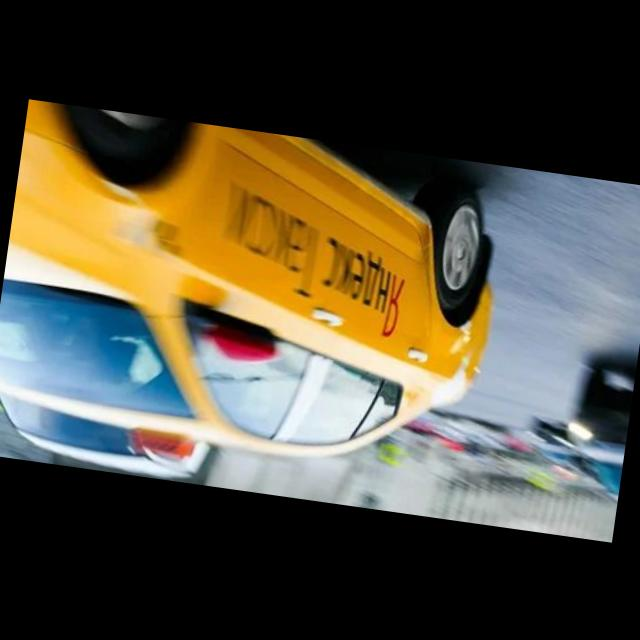taxi: (1, 98, 515, 509)
